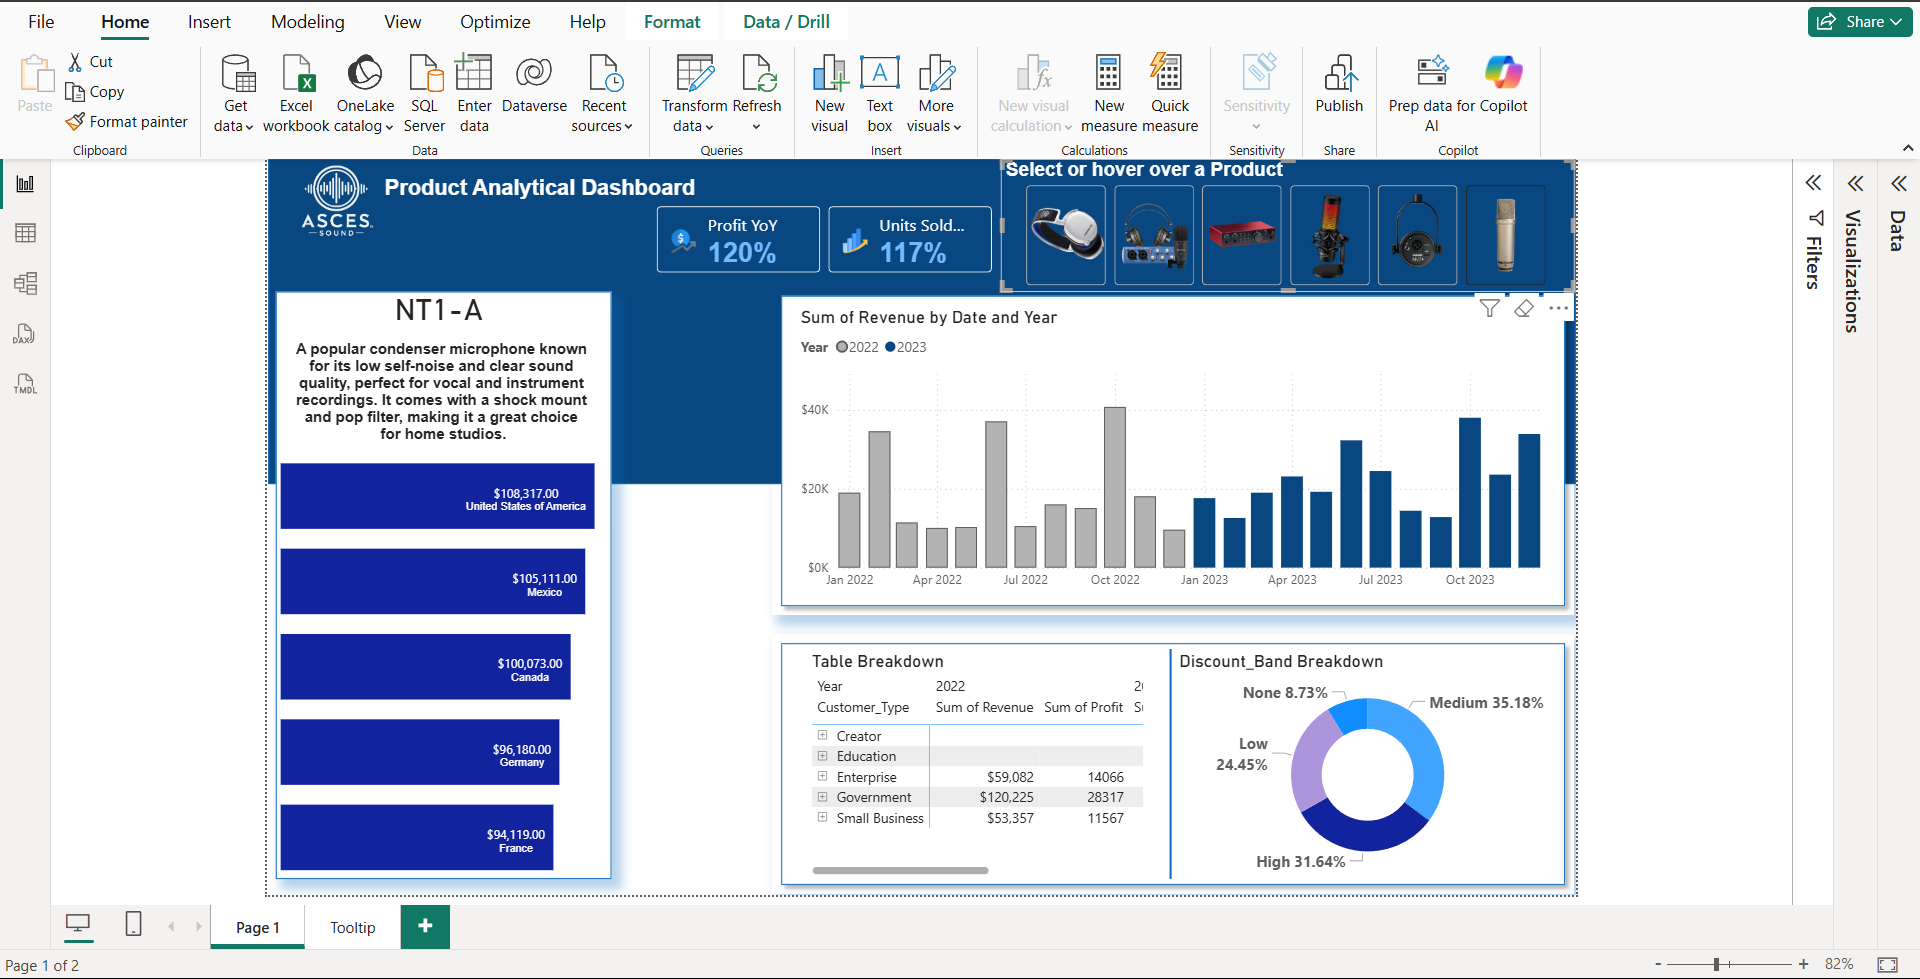

Layout of this report page (visuals, bound fields, positions):
{"tool":"powerbi","page":{"name":"Page 1","canvas":[1280,720],"ordinal":0},"visuals":[{"type":"shape","box":[1.4,0,1279.2,318.1],"z":0},{"type":"shape","box":[8.1,129.2,328.5,574.8],"z":1000},{"type":"shape","box":[494.1,125.2,784.9,321.8],"z":2000},{"type":"shape","box":[494.1,464.5,784.9,254.4],"z":3000},{"type":"image","box":[0,0,129,78.2],"z":4000},{"type":"advancedSlicerVisual","title":"Select or hover over a Product","fields":{"Values":["Query1.Selection"]},"box":[718.1,0,561.1,129.2],"z":5000},{"type":"card","fields":{"Values":["Min(Query1.Description)"]},"box":[8.1,129.2,328.5,188.5],"z":6000},{"type":"clusteredBarChart","fields":{"Y":["Sum(Query1.Revenue)"],"Category":["Query1.Country"]},"box":[8.1,285.4,382.3,418.7],"z":7000},{"type":"card","fields":{"Values":["Min(Query1.Product)"]},"box":[0,110.4,336.6,71.4],"z":8000},{"type":"donutChart","title":"Discount_Band Breakdown","fields":{"Category":["Query1.Discount_Band"],"Y":["Sum(Query1.Revenue)"]},"box":[887.2,480.6,378.3,224.8],"z":9000},{"type":"shape","box":[852.2,479.3,63.3,224.8],"z":10000},{"type":"columnChart","fields":{"Y":["Sum(Query1.Revenue)"],"Series":["Query1.Year.1"],"Category":["Query1.Date"]},"box":[517,144,748.5,285.4],"z":11000},{"type":"pivotTable","title":"Table Breakdown","fields":{"Rows":["Query1.Customer_Type","Query1.Product"],"Columns":["Query1.Year.1"],"Values":["Sum(Query1.Revenue)","Sum(Query1.Profit)"]},"box":[527.7,480.6,333.9,224.8],"z":12000},{"type":"cardVisual","fields":{"Data":["Query1.Profit YoY","Query1.Units_sold YoY"]},"box":[364.8,29.6,363.5,99.6],"z":13000},{"type":"textbox","box":[110.4,10.8,336.6,37.7],"z":13001}]}

Visuals, with their boxes on the page's 1280x720 design canvas (x1, y1, x2, y2). These are canvas units, not pixel positions in the 1920x979 screenshot, which may show the page scaled, cropped or inside an application window:
shape: x1=1, y1=0, x2=1281, y2=318
shape: x1=8, y1=129, x2=337, y2=704
shape: x1=494, y1=125, x2=1279, y2=447
shape: x1=494, y1=464, x2=1279, y2=719
image: x1=0, y1=0, x2=129, y2=78
"Select or hover over a Product" advancedSlicerVisual: x1=718, y1=0, x2=1279, y2=129
card - Min(Query1.Description): x1=8, y1=129, x2=337, y2=318
clusteredBarChart - Sum(Query1.Revenue) x Query1.Country: x1=8, y1=285, x2=390, y2=704
card - Min(Query1.Product): x1=0, y1=110, x2=337, y2=182
"Discount_Band Breakdown" donutChart: x1=887, y1=481, x2=1266, y2=705
shape: x1=852, y1=479, x2=916, y2=704
columnChart - Sum(Query1.Revenue) x Query1.Year.1: x1=517, y1=144, x2=1266, y2=429
"Table Breakdown" pivotTable: x1=528, y1=481, x2=862, y2=705
cardVisual - Query1.Profit YoY x Query1.Units_sold YoY: x1=365, y1=30, x2=728, y2=129
textbox: x1=110, y1=11, x2=447, y2=48
